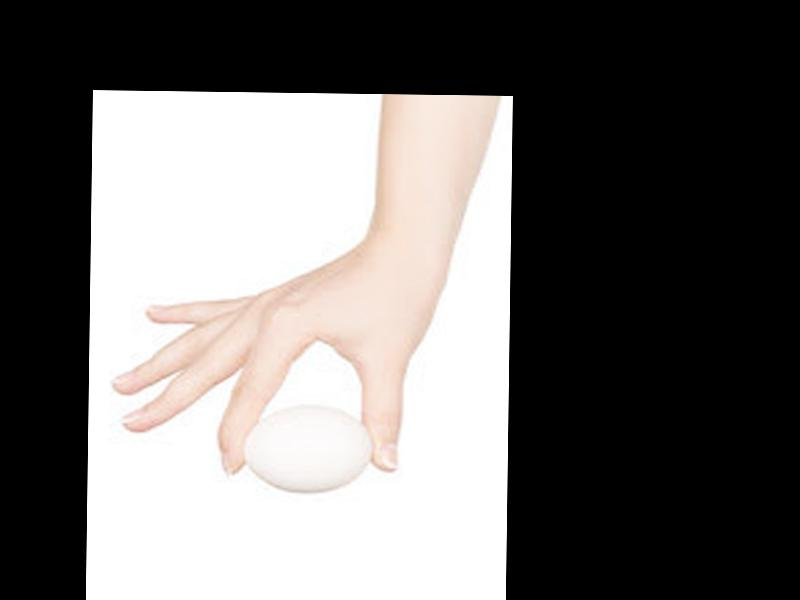Eggs: (242, 403, 372, 496)
